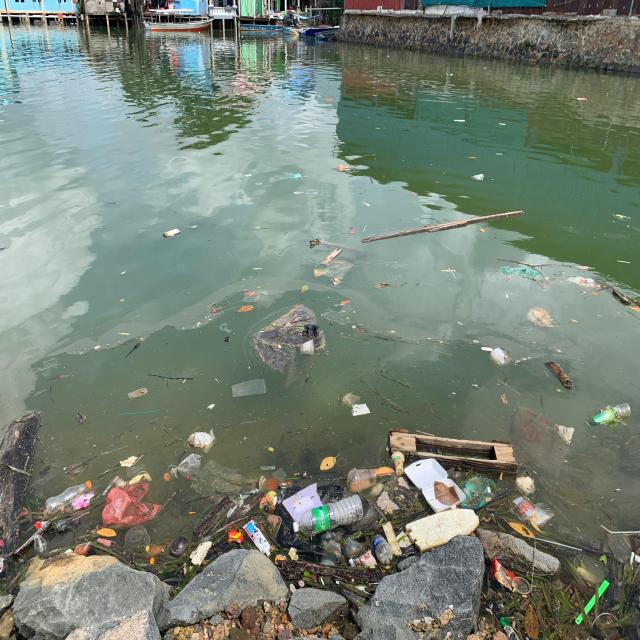Botol Plastik: (293, 494, 365, 537), (46, 481, 93, 517), (371, 533, 395, 566), (585, 409, 619, 430), (599, 403, 634, 419), (501, 617, 511, 629)
Bungkus Makanan: (508, 405, 576, 482), (405, 459, 467, 514), (491, 557, 520, 593), (512, 496, 538, 522)
Bungkus Minuman: (347, 468, 378, 494), (321, 542, 343, 569), (345, 538, 368, 558), (391, 452, 406, 477), (260, 491, 278, 511)
Kantong Plastik: (102, 482, 163, 528), (461, 476, 497, 511), (500, 264, 544, 285), (185, 429, 217, 454), (232, 379, 268, 399), (177, 453, 203, 480), (490, 349, 510, 368), (280, 172, 303, 184), (338, 164, 355, 176), (472, 173, 487, 183)
